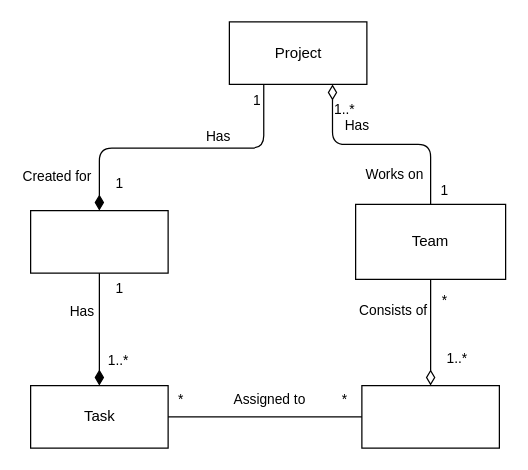
The diagram is 528 pixels wide and 470 high, and some of its shapes have lost their labels. Here are the shapes that lost their labels. From the top down, the centre of each, then its label:
At point (98, 241): "Kanban board".
At point (430, 416): "Person".
